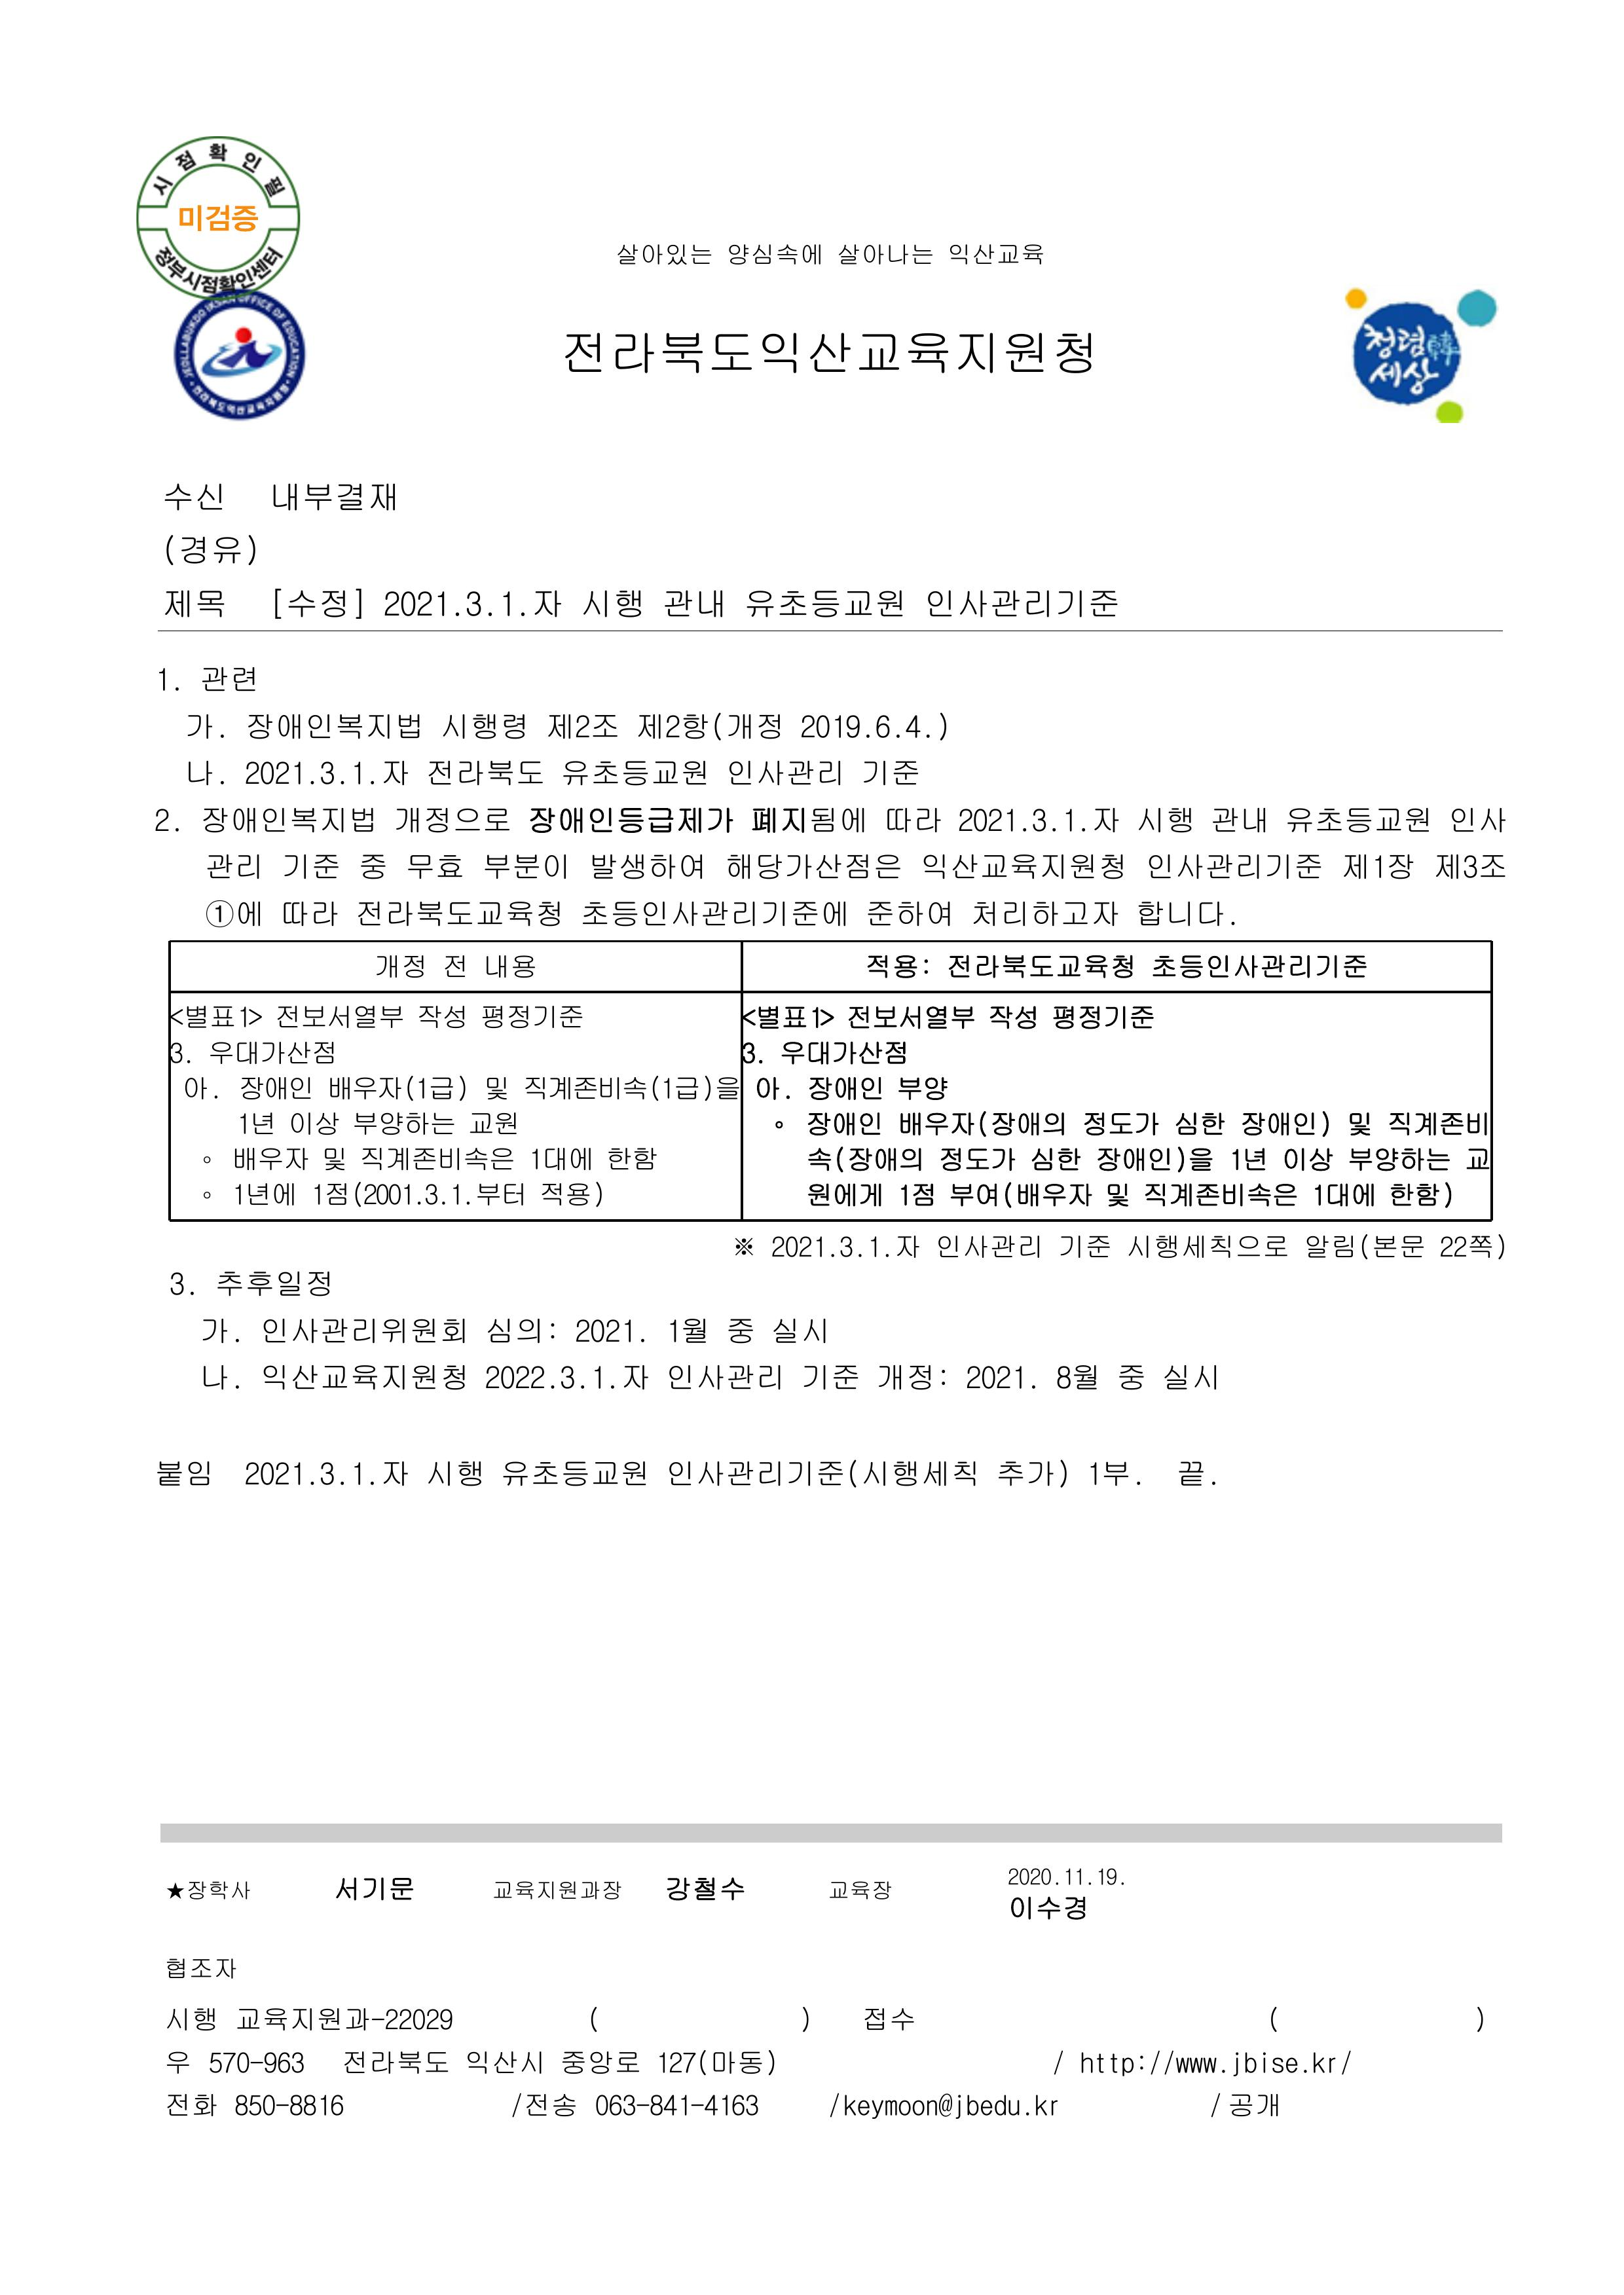t: (562, 327, 1097, 380), (663, 1455, 979, 1492), (576, 896, 849, 931), (169, 1000, 404, 1033), (258, 1358, 469, 1395), (520, 1068, 738, 1104), (917, 849, 1125, 886), (527, 803, 738, 838), (258, 1313, 469, 1348), (921, 583, 1118, 620), (1148, 951, 1366, 982), (1144, 849, 1323, 886), (355, 896, 562, 928), (742, 583, 903, 624), (724, 849, 900, 886), (944, 951, 1134, 982), (893, 1107, 1069, 1140), (244, 710, 424, 742), (197, 803, 376, 835), (348, 1176, 527, 1207), (499, 1455, 649, 1492), (1141, 1179, 1297, 1213), (1283, 803, 1431, 838), (322, 1068, 469, 1104), (269, 476, 397, 517), (1123, 1230, 1287, 1262), (559, 756, 710, 789), (946, 1179, 1097, 1213), (968, 896, 1118, 928), (634, 710, 780, 742), (663, 1358, 786, 1395), (842, 1000, 975, 1033), (359, 1144, 517, 1172), (652, 2044, 779, 2079), (207, 1035, 337, 1068), (211, 1265, 334, 1300), (779, 1035, 907, 1068), (390, 803, 508, 838), (424, 756, 545, 789), (828, 2095, 968, 2123), (589, 849, 707, 882), (269, 583, 366, 624), (1093, 1144, 1216, 1176), (1301, 1230, 1424, 1262), (380, 589, 499, 620), (749, 803, 868, 835), (232, 2000, 344, 2033), (807, 1144, 924, 1176), (476, 1000, 584, 1033), (352, 1107, 459, 1140), (932, 1230, 1044, 1262), (490, 1879, 624, 1905), (341, 2044, 452, 2075), (244, 756, 348, 789), (1051, 1000, 1155, 1033), (953, 803, 1062, 835), (162, 531, 258, 566), (1345, 1144, 1452, 1176), (742, 1000, 842, 1033), (1237, 1107, 1334, 1140), (1383, 1107, 1480, 1140), (176, 200, 258, 237), (480, 849, 569, 882), (1137, 896, 1230, 928), (993, 1455, 1072, 1492), (344, 2007, 455, 2033), (559, 2044, 642, 2079), (756, 756, 842, 789), (863, 896, 953, 928), (649, 2095, 763, 2119), (875, 1358, 951, 1395), (1359, 322, 1427, 362), (803, 1107, 886, 1140), (1079, 1107, 1162, 1140), (334, 1871, 417, 1905), (663, 1871, 745, 1905), (441, 710, 527, 742), (935, 1144, 1021, 1176), (772, 1234, 868, 1262), (961, 1358, 1033, 1395), (483, 1313, 559, 1348), (1366, 355, 1434, 394), (1004, 1893, 1090, 1922), (494, 583, 562, 620), (480, 1358, 548, 1395), (1338, 849, 1413, 882), (1431, 849, 1506, 882), (796, 710, 875, 742), (807, 1072, 886, 1104), (207, 2051, 308, 2075), (237, 1072, 315, 1104), (946, 244, 1044, 269), (228, 1144, 315, 1172), (162, 583, 227, 620), (580, 583, 645, 620), (659, 583, 724, 620), (545, 710, 620, 742), (728, 244, 824, 269), (838, 244, 935, 269), (1308, 1179, 1378, 1213), (244, 1455, 308, 1492), (803, 1179, 886, 1207), (1383, 1176, 1455, 1207), (1434, 1230, 1506, 1262), (800, 1358, 861, 1395), (1158, 1358, 1220, 1395), (169, 1879, 255, 1905), (506, 2088, 576, 2119), (424, 1455, 483, 1492), (279, 849, 344, 882), (863, 951, 932, 982), (538, 1176, 606, 1207), (573, 1313, 642, 1344), (766, 1313, 828, 1348), (875, 713, 951, 742), (1445, 803, 1510, 835), (165, 480, 227, 513), (197, 662, 258, 696), (404, 849, 466, 882), (1225, 2088, 1283, 2123), (466, 2051, 548, 2075), (228, 1179, 301, 1207), (589, 1358, 652, 1390), (348, 1455, 408, 1488), (1230, 2051, 1301, 2079), (965, 2095, 1035, 2123), (882, 803, 944, 835), (1207, 803, 1269, 835), (204, 896, 265, 928), (279, 896, 341, 928), (204, 849, 262, 882), (286, 1107, 344, 1140), (527, 1144, 596, 1172), (1079, 2051, 1148, 2079), (1058, 803, 1118, 835), (1134, 803, 1193, 835), (861, 756, 917, 789), (286, 2089, 348, 2119), (373, 951, 431, 982), (480, 951, 538, 982), (1025, 1144, 1083, 1176), (1280, 1144, 1338, 1176), (986, 1000, 1040, 1033), (1051, 1358, 1100, 1395), (1055, 1230, 1111, 1262), (165, 1958, 237, 1982), (417, 1000, 469, 1033), (1172, 1107, 1225, 1140), (861, 2000, 914, 2033), (896, 1072, 951, 1104), (828, 1879, 893, 1905), (663, 1313, 710, 1348), (659, 239, 714, 269), (1086, 1455, 1134, 1488), (466, 1107, 517, 1137), (228, 2089, 279, 2119), (591, 2089, 642, 2119), (868, 1234, 921, 1262), (165, 2005, 218, 2033), (237, 1107, 279, 1140), (183, 710, 227, 742), (1225, 1144, 1269, 1176), (165, 2095, 221, 2119), (606, 1147, 659, 1172), (555, 1358, 591, 1395), (1172, 1455, 1207, 1492), (1162, 2054, 1223, 2075), (197, 1358, 237, 1390), (308, 1179, 352, 1207), (186, 761, 228, 789), (355, 849, 390, 882), (1116, 1358, 1148, 1395), (1308, 2051, 1355, 2075), (617, 244, 663, 269), (1100, 1179, 1134, 1213), (438, 951, 473, 982), (197, 1313, 232, 1344), (724, 1313, 756, 1348), (308, 1459, 344, 1488), (896, 1179, 935, 1207), (376, 756, 408, 789), (724, 756, 756, 789), (752, 1072, 786, 1104), (318, 1144, 352, 1176), (1007, 1868, 1055, 1889), (156, 666, 190, 696), (1345, 1107, 1373, 1140), (480, 1072, 508, 1104), (186, 1459, 214, 1488), (352, 761, 380, 789), (183, 1075, 214, 1100), (1033, 2096, 1062, 2119), (155, 807, 176, 835), (1062, 1868, 1090, 1889), (169, 1272, 190, 1299), (169, 1044, 190, 1068), (1093, 1868, 1118, 1889), (169, 2051, 190, 2075), (742, 1044, 761, 1068)
